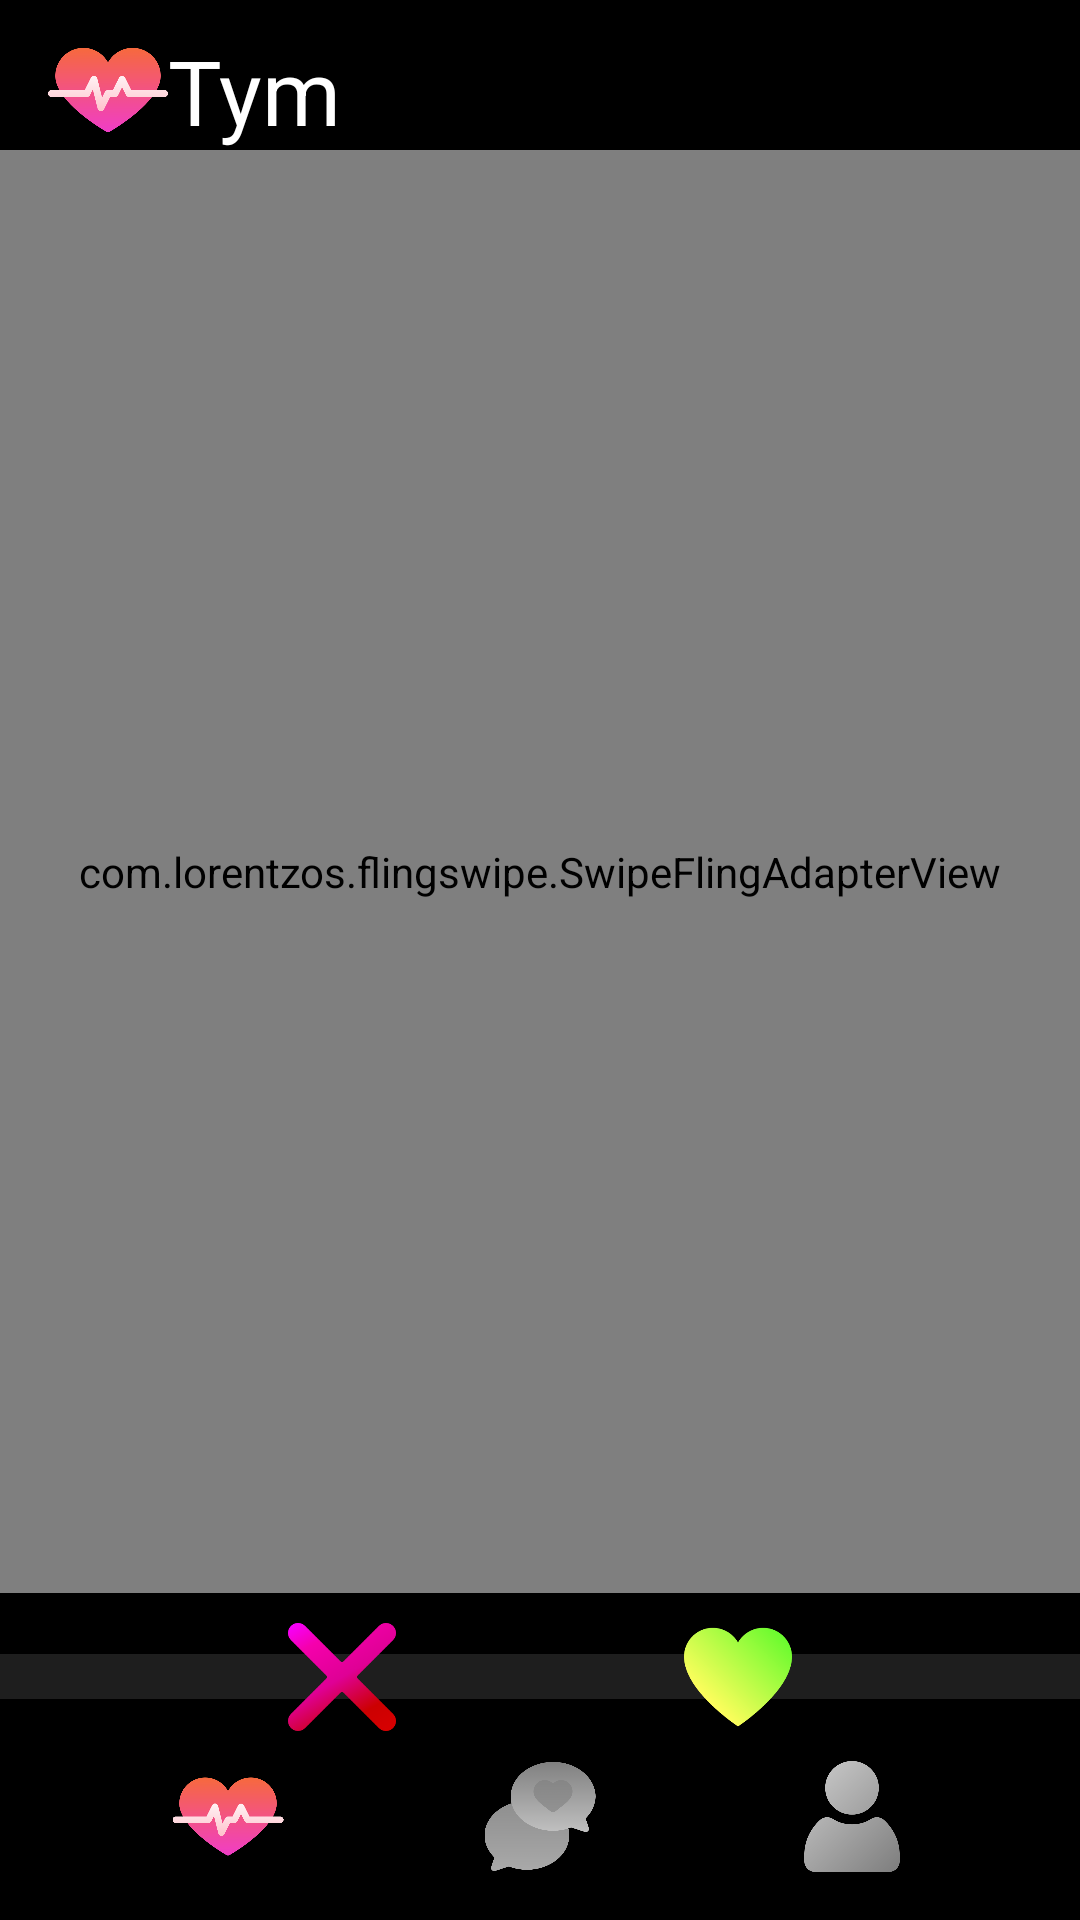

Screen size 1080 × 1920. Icon name, then its box in pixels as (x1, y1, x2, y2):
chat: (485, 1762, 596, 1871)
close dislike: (288, 1623, 396, 1731)
heart beat: (48, 48, 168, 132), (173, 1777, 284, 1856)
heart like: (684, 1627, 792, 1726)
user: (804, 1761, 900, 1872)
